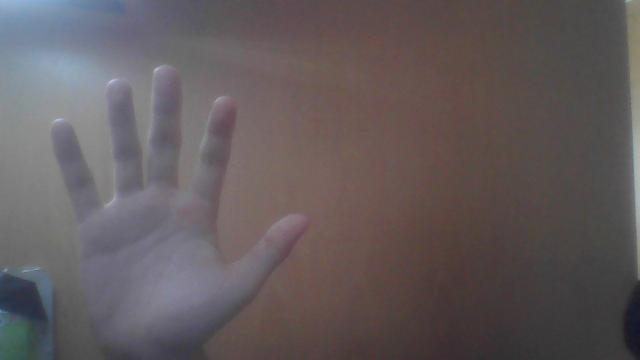Stop: (51, 63, 312, 360)
